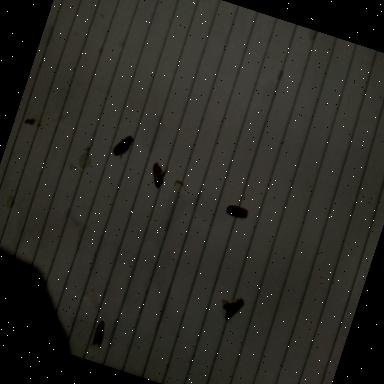pbw: (217, 288, 248, 322), (111, 130, 136, 161), (146, 160, 170, 188), (90, 318, 110, 348), (224, 201, 251, 222)
